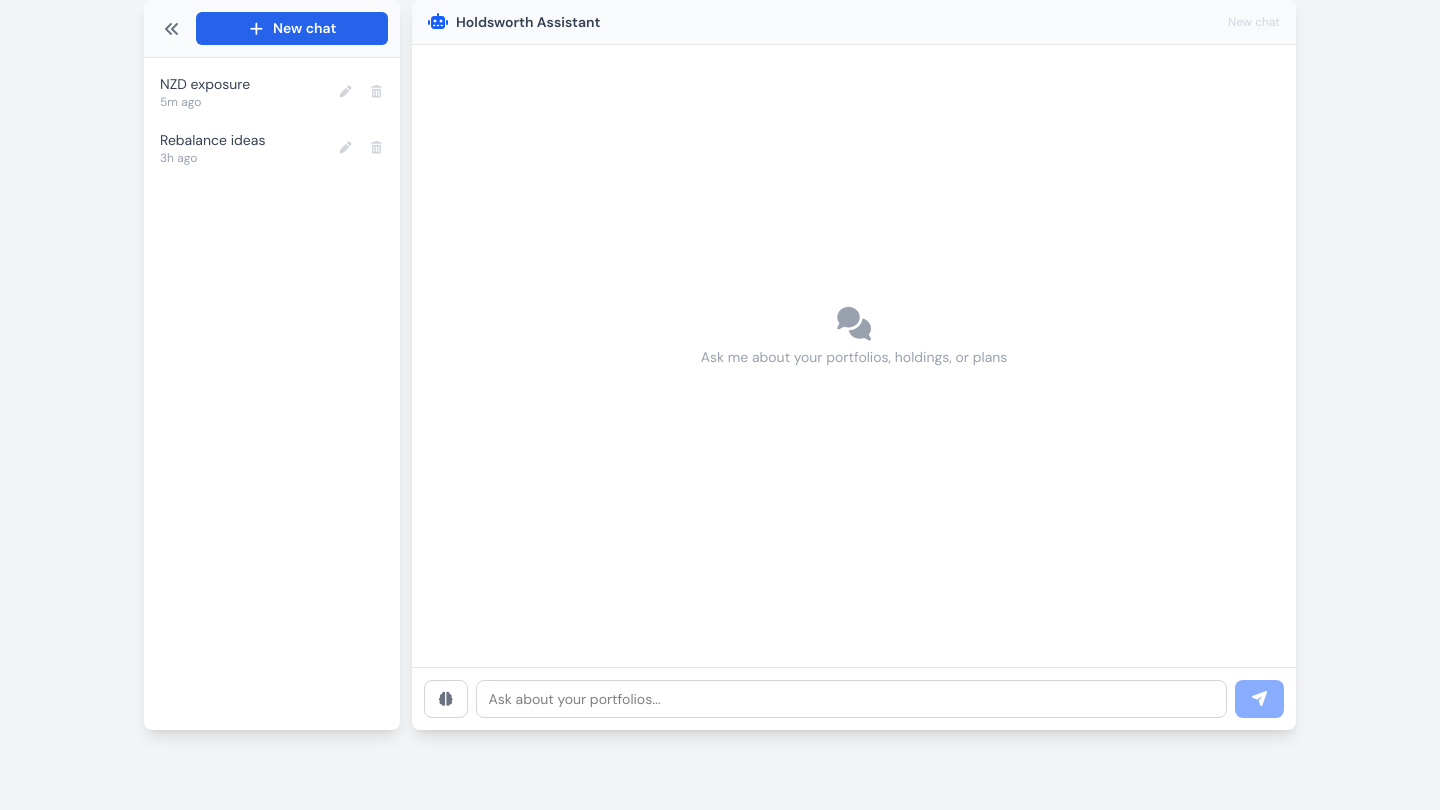
/chat page › renaming a conversation › saves on Enter, trimmed, then refreshes the list
This screenshot has width=1440, height=810.
(page scrolled)
Expected: the text "Rebalance ideas" is shown, [160, 131, 265, 149]
Click the button named "Rename \"Rebalance ideas\"" at [346, 148], box [330, 132, 361, 164]
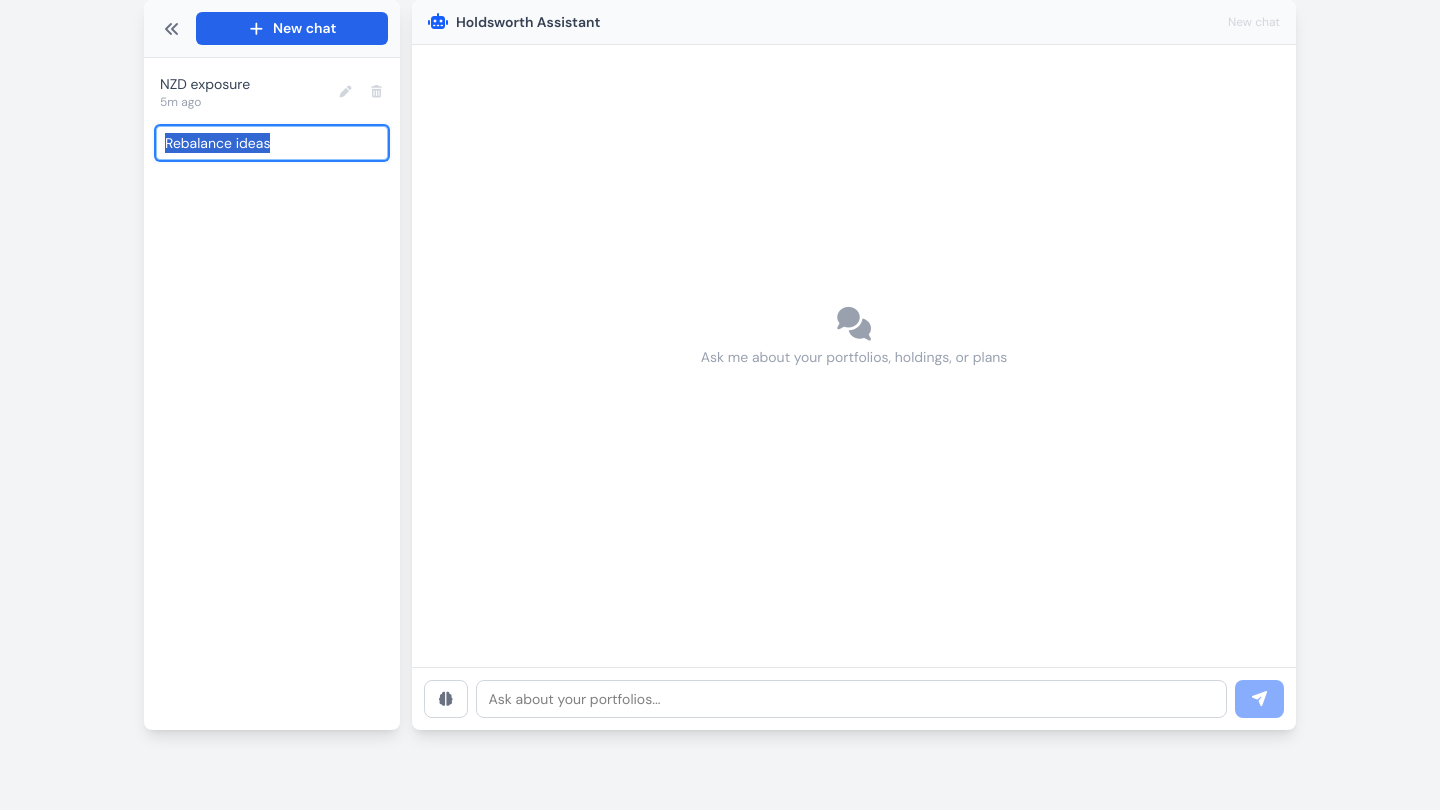
Replace the text in the field named "conversation title" with "  Hedging plan  " at [272, 143], box [156, 126, 388, 160]
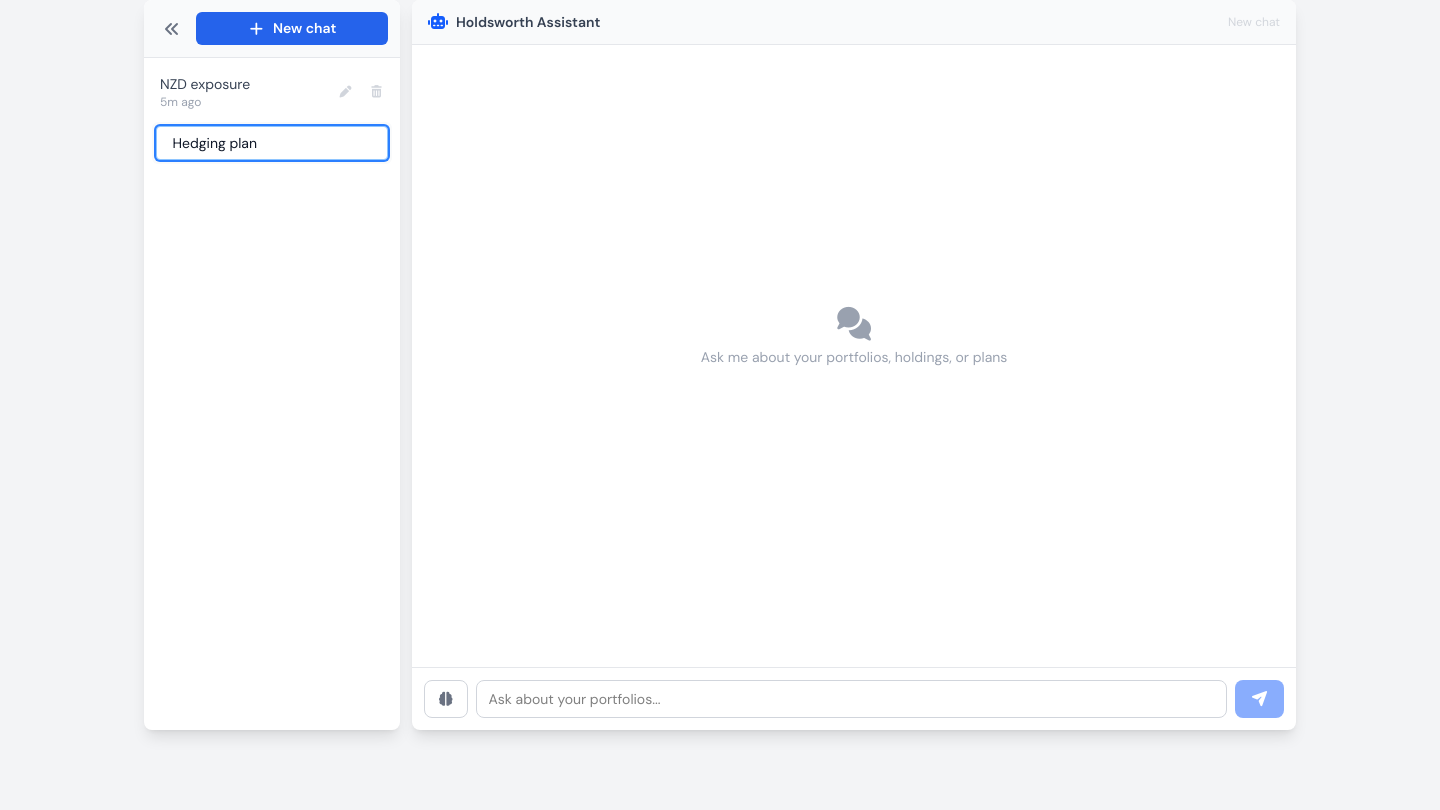
Press Enter in the field named "conversation title", box [156, 126, 388, 160]
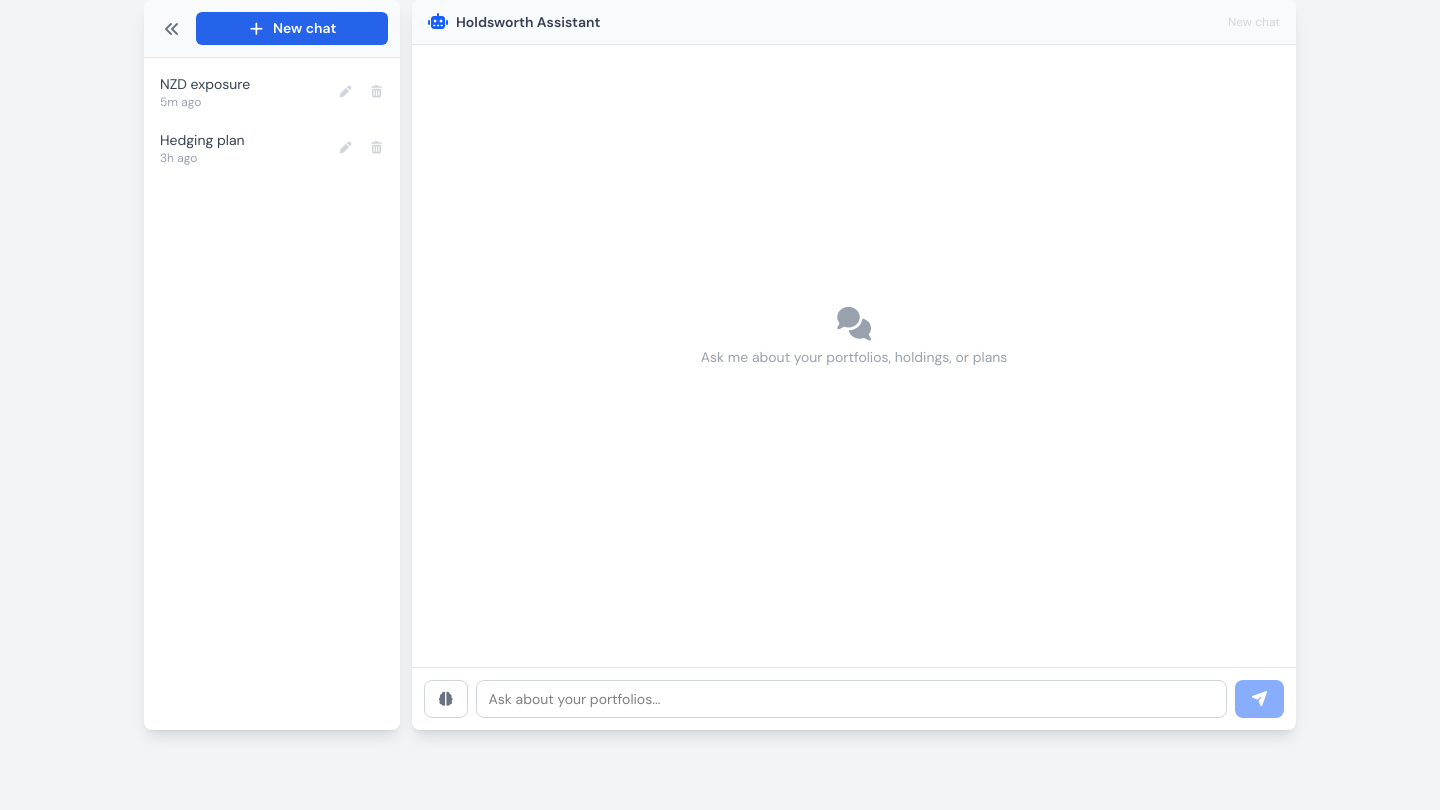
Now the text "Hedging plan" is shown, box [160, 131, 244, 149]
